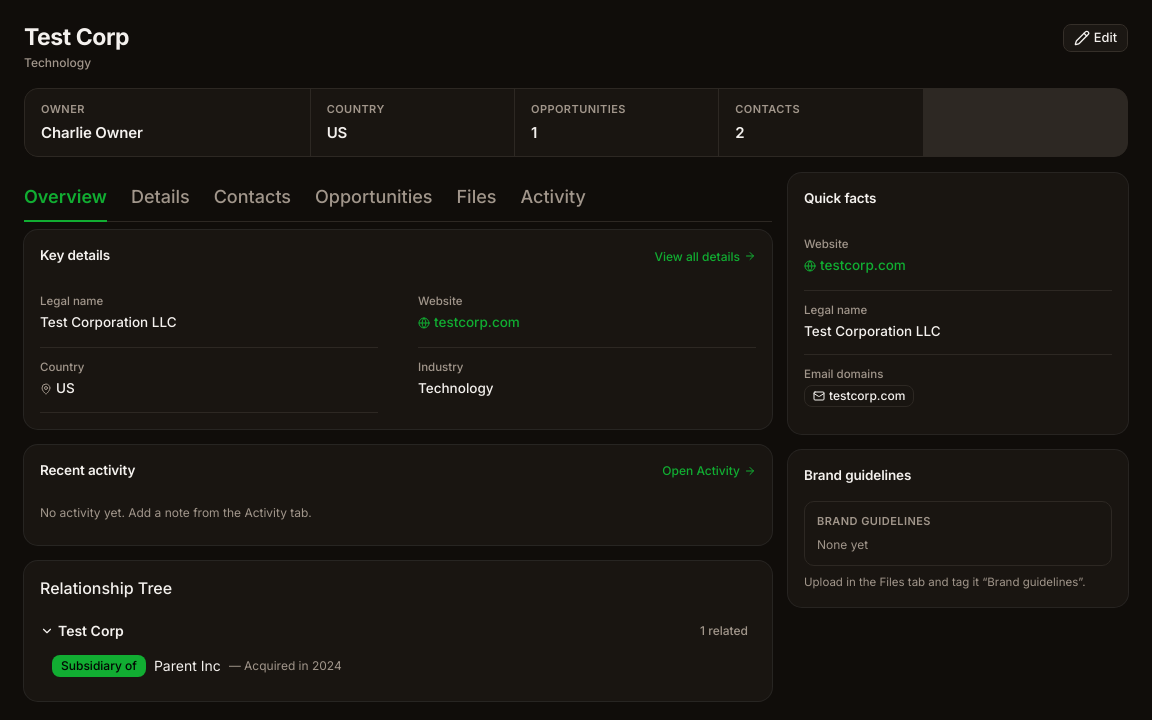
Scenario: AccountDetailWrapper › contacts tab › shows Attach + a detach control for linked (not primary) contacts when admin
Click the tab "Contacts". click: [252, 198]
box: x1=214 y1=173 x2=291 y2=222
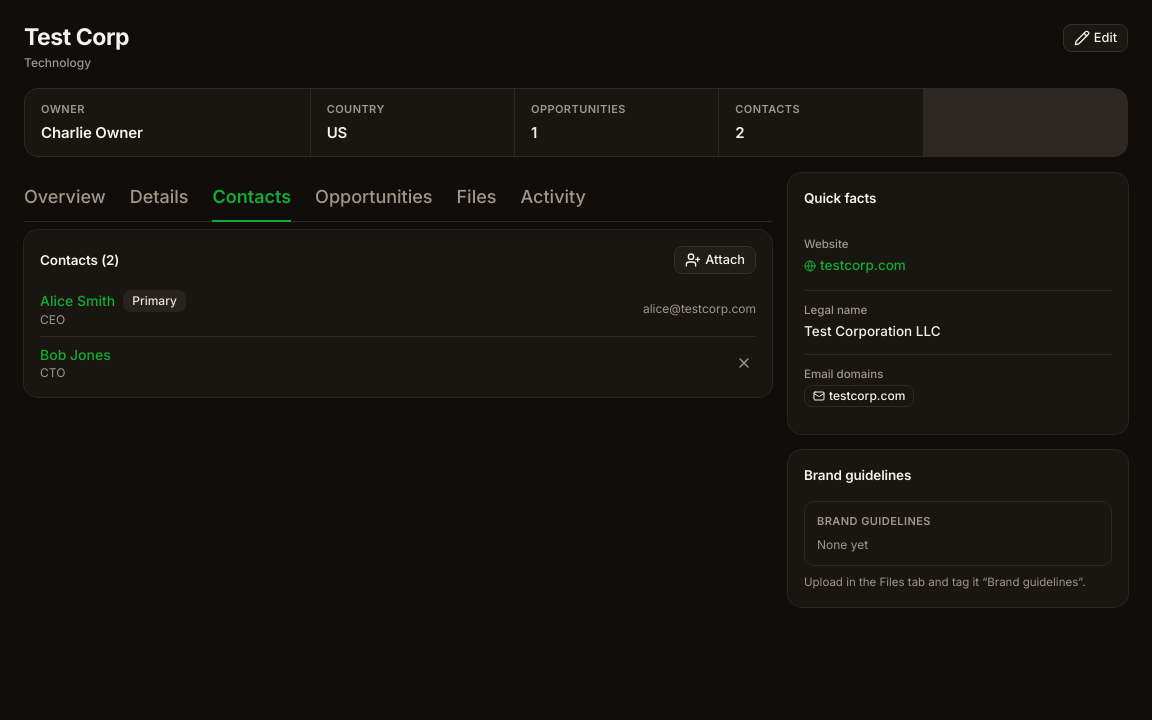
Check: the button "Attach" is shown, box x1=674 y1=246 x2=756 y2=274
Check: the button named "Detach Bob Jones" is shown, box x1=732 y1=351 x2=756 y2=375
